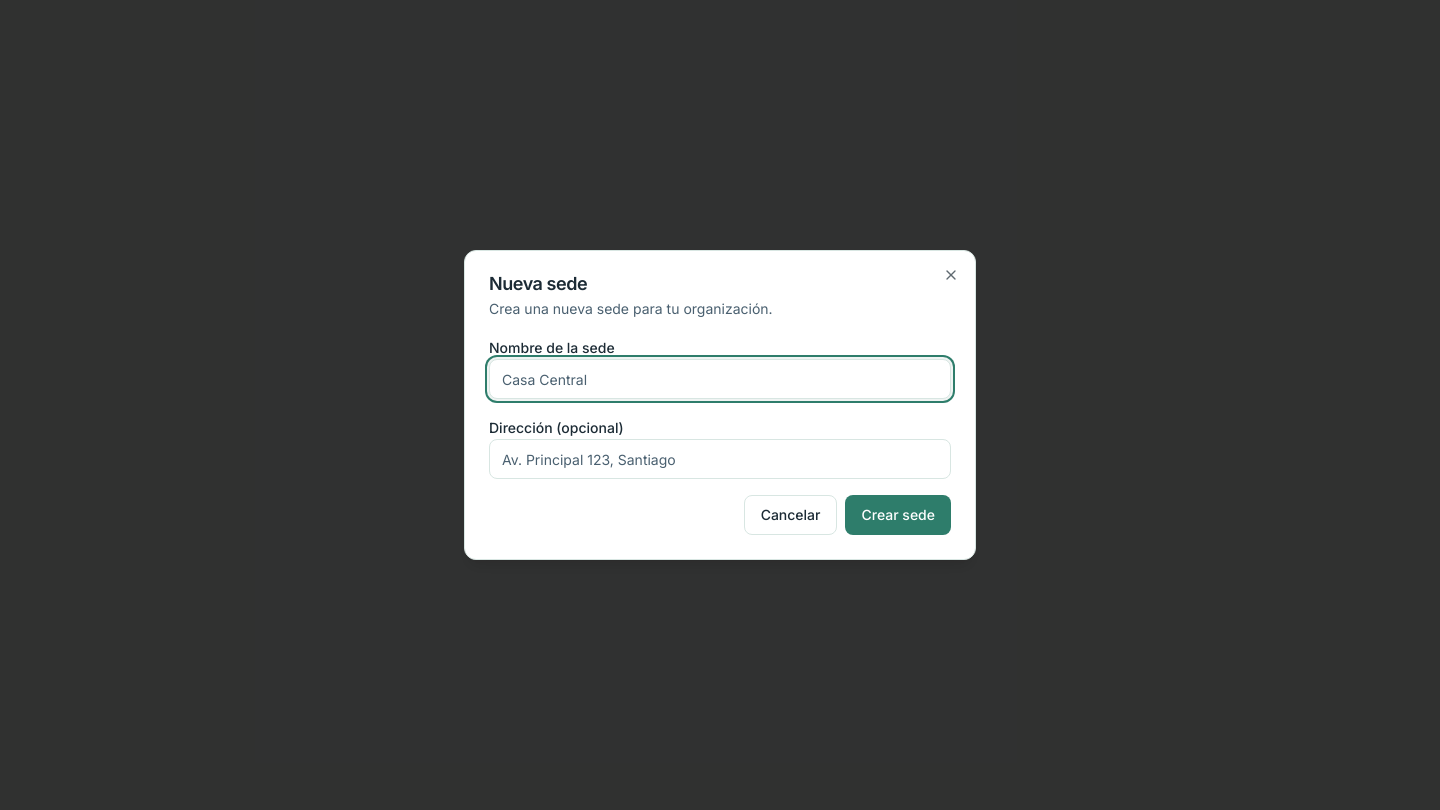
it: LocationFormDialog - create mode › shows validation error when name is too short
Type "A" into the field labelled "Nombre de la sede" at x=720, y=379, box [489,359,951,399]
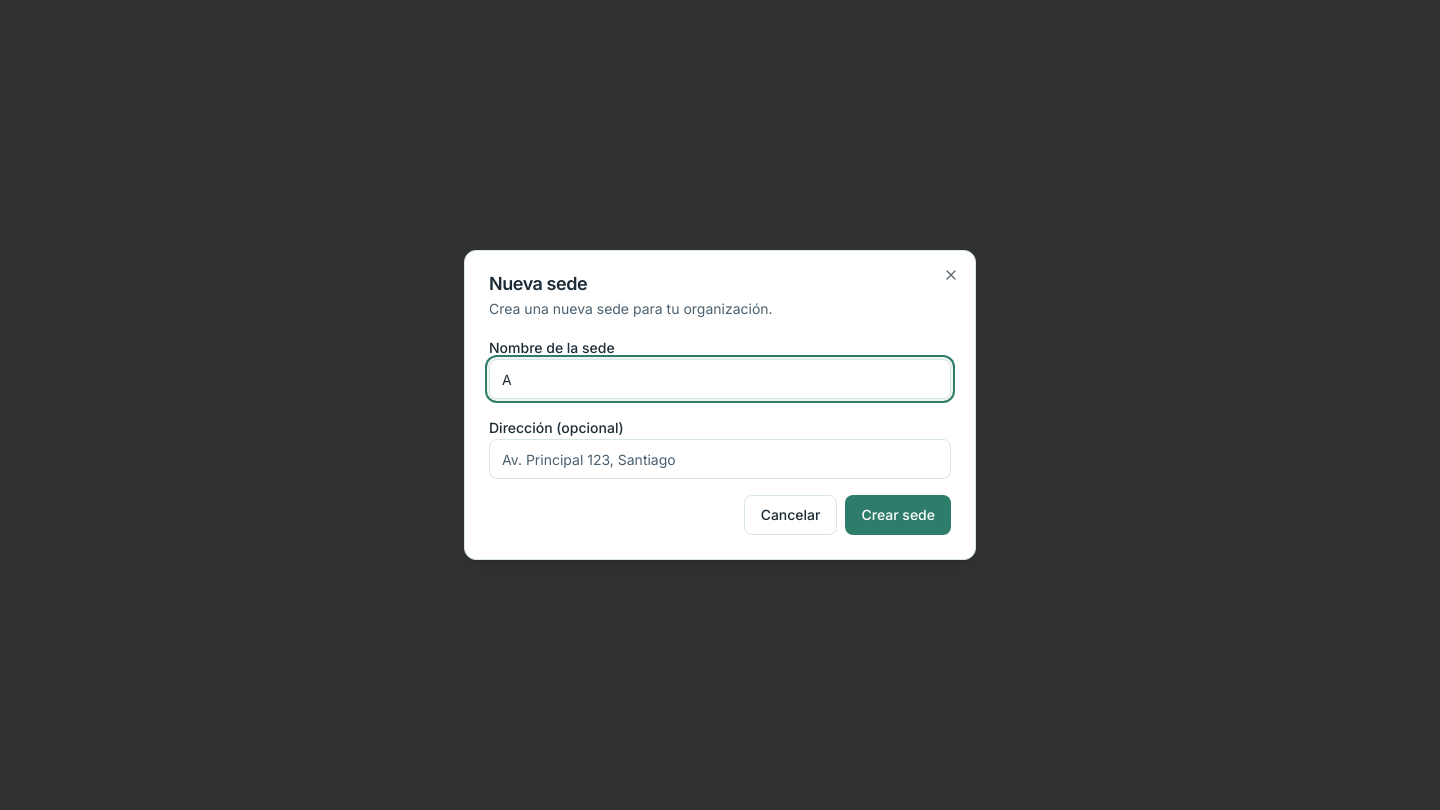
Click the button "Crear sede" at x=898, y=515, box [846,495,951,535]
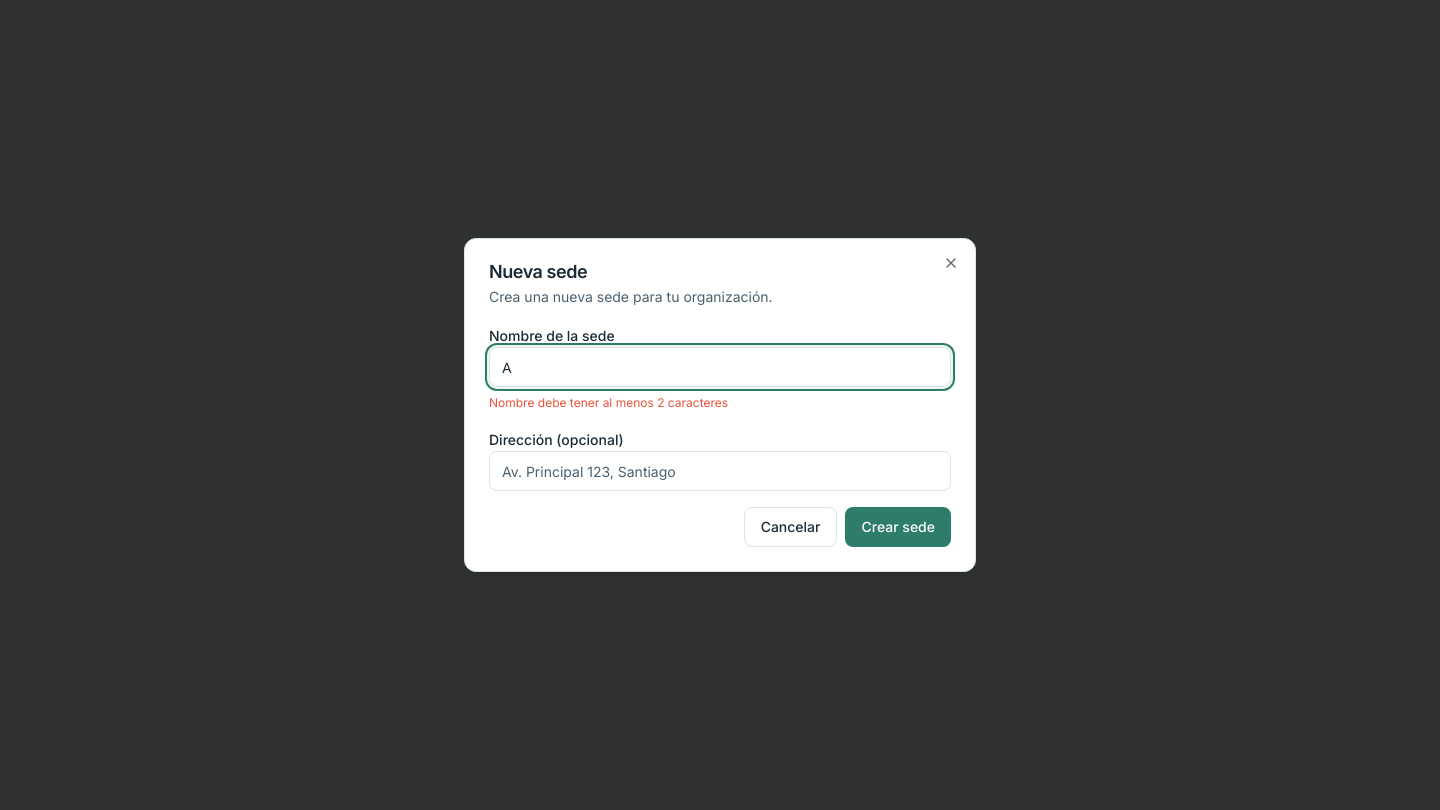
Expected: the text "Nombre debe tener al menos 2 caracteres" is shown, [489,395,728,410]
